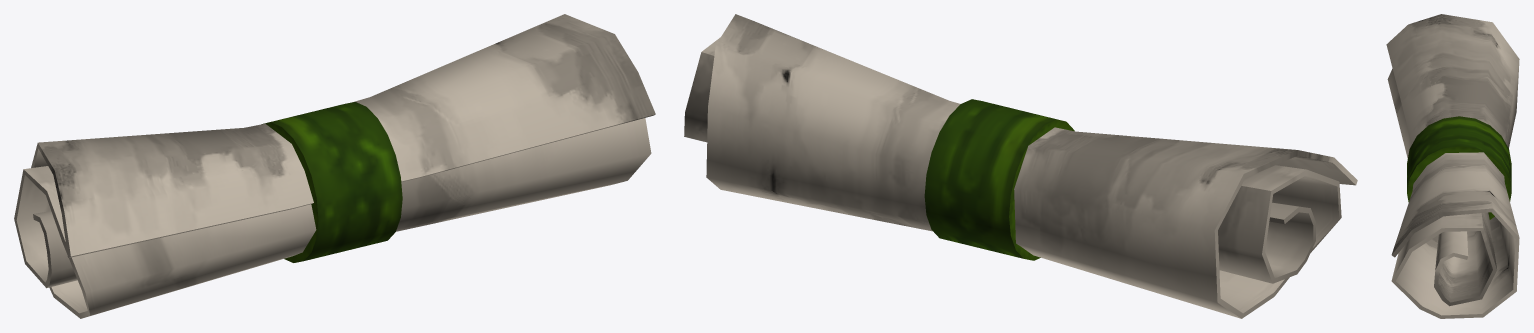
The model's file is scroll-1.glb.
3 views of the same model, side by side, from view 1: azimuth 30°, elevation 25°; view 2: azimuth 150°, elevation 25°; view 3: azimuth 270°, elevation 25° (orthographic). The views are drawn at different scales.
Parts seen in each view (by area): view 1: Scroll_1; view 2: Scroll_1; view 3: Scroll_1.
Part boxes in pixels (x1=…): Scroll_1: x1=14, y1=14, x2=655, y2=318; Scroll_1: x1=684, y1=14, x2=1357, y2=318; Scroll_1: x1=1386, y1=14, x2=1519, y2=318.
Bounding box in the file's own units: 0.2439 × 0.0588 × 0.0631.
Materials: 2 (2 with a texture image).
